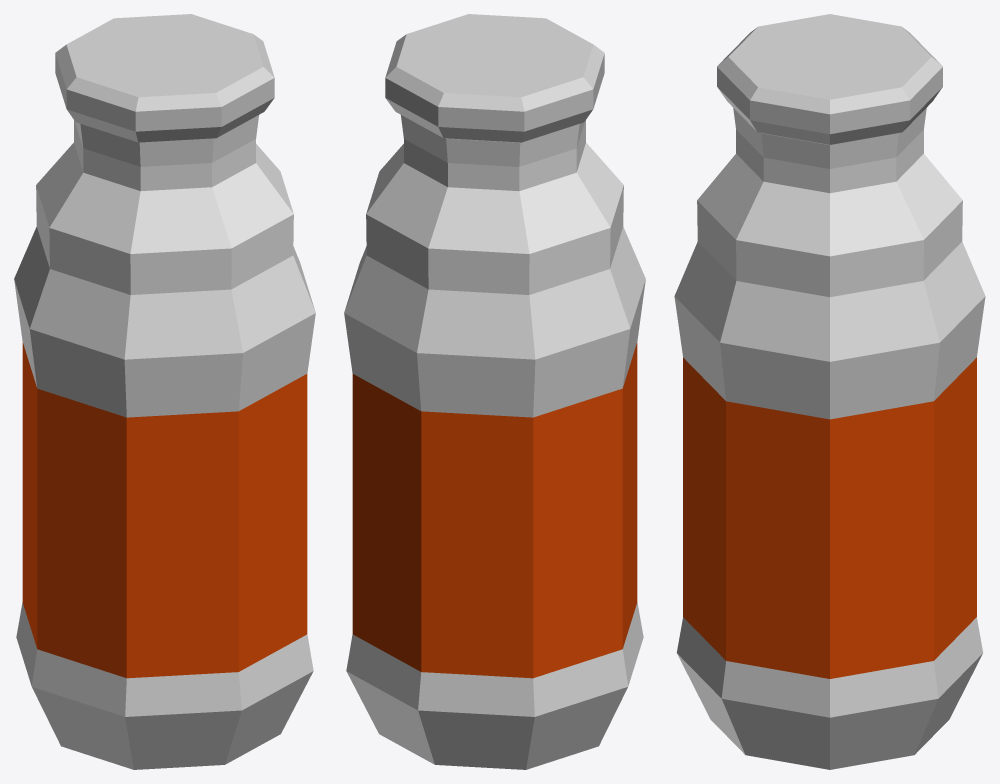
The model's file is Ma_Juice_Glass.fbx.
3 views of the same model, side by side, from view 1: azimuth 30°, elevation 25°; view 2: azimuth 150°, elevation 25°; view 3: azimuth 270°, elevation 25° (orthographic).
Visible parts, largest first — view 1: Ma_Juice_Glass; view 2: Ma_Juice_Glass; view 3: Ma_Juice_Glass.
Part boxes in pixels (x1,y1,x2,y2): Ma_Juice_Glass: (14, 14, 315, 769); Ma_Juice_Glass: (344, 14, 645, 769); Ma_Juice_Glass: (674, 14, 985, 769).
Bounding box in the file's own units: 66.11 × 66.11 × 155.
